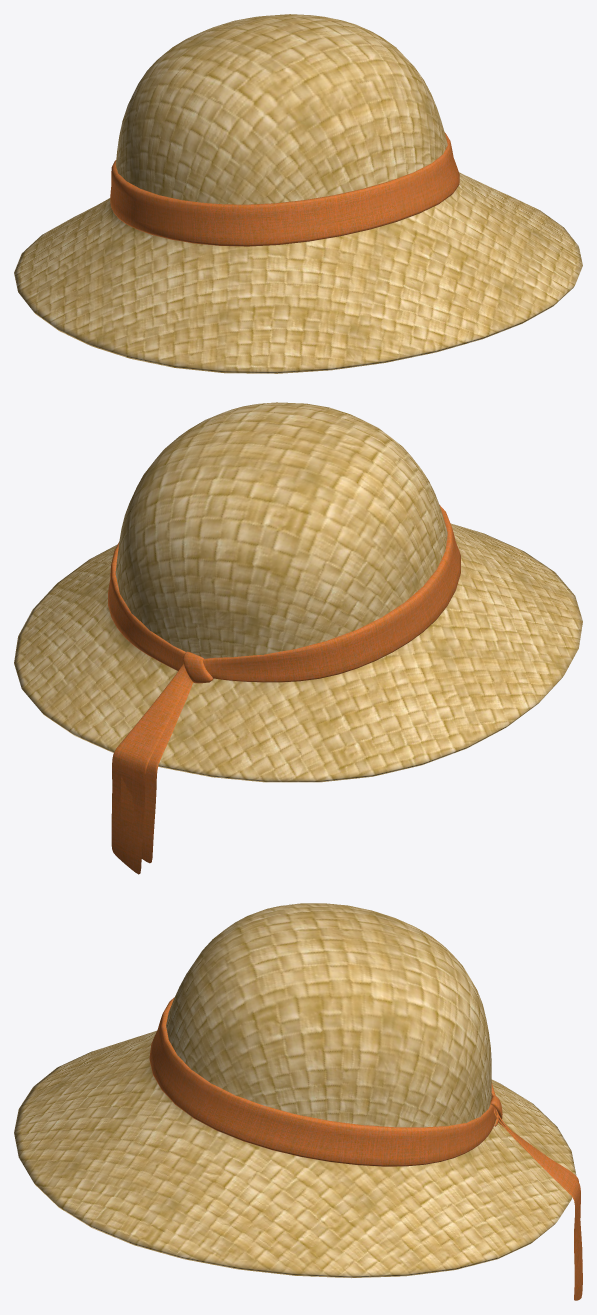
The model's file is Hat2.obj.
3 renders of one model, top to bottom at view 1: azimuth 30°, elevation 25°; view 2: azimuth 150°, elevation 25°; view 3: azimuth 270°, elevation 25°, orthographic.
Visible parts, largest first — view 1: Cube_Cube.001, Cube.001_Cube.002; view 2: Cube_Cube.001, Cube.001_Cube.002; view 3: Cube_Cube.001, Cube.001_Cube.002.
Boxes of the visible parts, x1,y1,x2,y2 form: Cube_Cube.001: (14, 14, 582, 373); Cube.001_Cube.002: (110, 132, 459, 246); Cube_Cube.001: (14, 402, 582, 782); Cube.001_Cube.002: (108, 505, 460, 874); Cube_Cube.001: (14, 903, 576, 1278); Cube.001_Cube.002: (149, 997, 582, 1300).
Bounding box in the file's own units: 3.76 × 2.67 × 3.79.
Materials: 1 (1 with a texture image).
